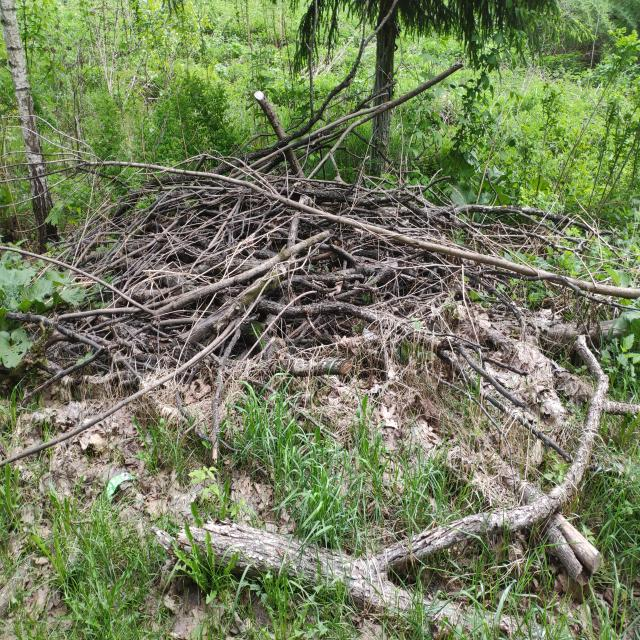restos de madeira: (155, 509, 381, 621), (0, 387, 148, 474), (272, 84, 414, 160), (303, 0, 384, 130), (188, 233, 323, 306), (414, 498, 541, 562), (298, 78, 468, 125), (100, 183, 203, 260), (263, 200, 421, 250), (449, 341, 539, 416), (60, 297, 224, 338), (232, 286, 312, 362), (481, 399, 572, 464), (16, 344, 114, 404), (112, 227, 198, 293), (220, 158, 316, 216), (2, 242, 120, 289), (435, 206, 544, 256), (546, 413, 601, 512), (4, 310, 115, 355), (418, 234, 530, 278), (134, 273, 243, 318), (529, 268, 640, 312), (172, 360, 223, 452), (256, 90, 304, 181), (1, 163, 98, 208), (194, 194, 251, 264), (398, 521, 472, 570), (331, 253, 414, 296), (548, 515, 599, 584), (437, 600, 522, 638), (90, 157, 234, 179), (283, 178, 366, 208), (324, 300, 400, 331), (464, 273, 525, 311), (9, 407, 69, 443), (574, 198, 619, 245), (218, 318, 250, 384), (452, 202, 539, 225), (209, 360, 223, 496), (0, 154, 104, 172), (306, 142, 346, 184), (571, 335, 603, 382), (58, 306, 145, 322), (290, 409, 340, 436), (290, 355, 348, 378), (591, 315, 635, 345), (594, 395, 640, 419), (475, 352, 524, 374), (380, 324, 396, 391), (285, 205, 303, 253)
